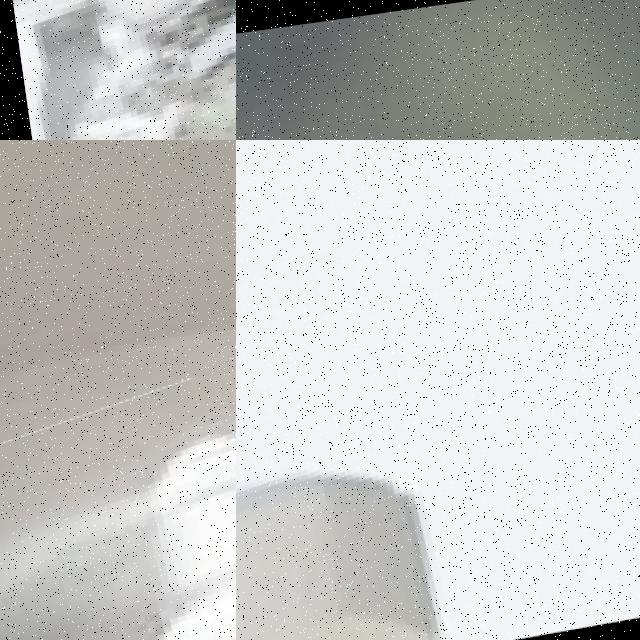0: (0, 340, 236, 640), (0, 0, 236, 140)
drone: (236, 140, 640, 640)
